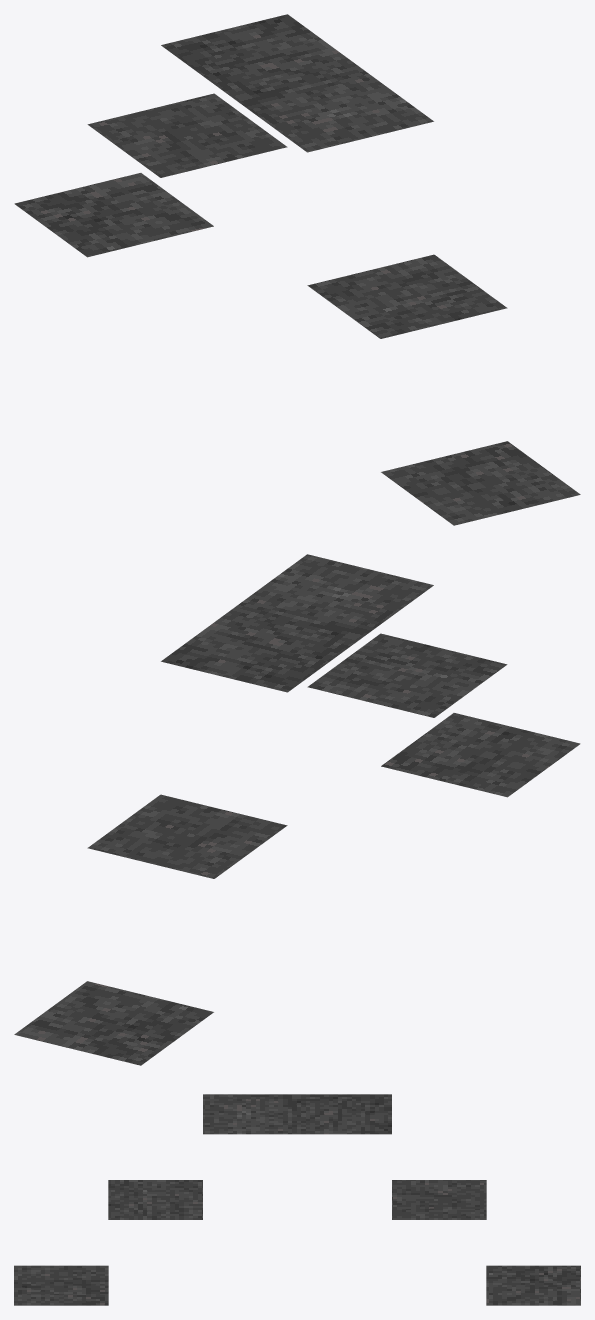
The model's file is F_GDCONC.1.obj.
3 renders of one model, top to bottom at view 1: azimuth 30°, elevation 25°; view 2: azimuth 150°, elevation 25°; view 3: azimuth 270°, elevation 25°, orthographic. The views are drawn at different scales.
Parts seen in each view (by area): view 1: F_GDCONC.1; view 2: F_GDCONC.1; view 3: F_GDCONC.1.
Boxes of the visible parts, bbox=[...] form: F_GDCONC.1: bbox=[14, 14, 580, 525]; F_GDCONC.1: bbox=[14, 554, 580, 1065]; F_GDCONC.1: bbox=[14, 1094, 580, 1305].
Size of the model in its own units: 32 by 64 by 192.
